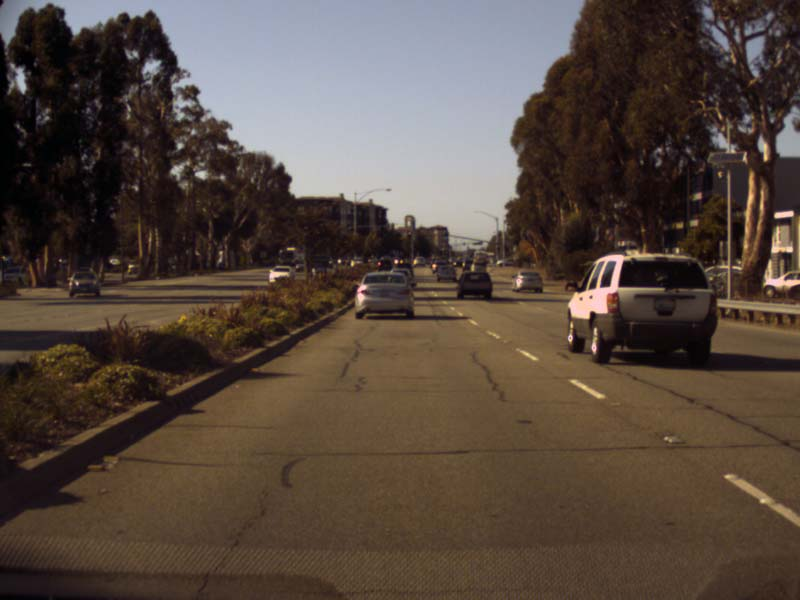Red: (407, 232, 411, 238)
